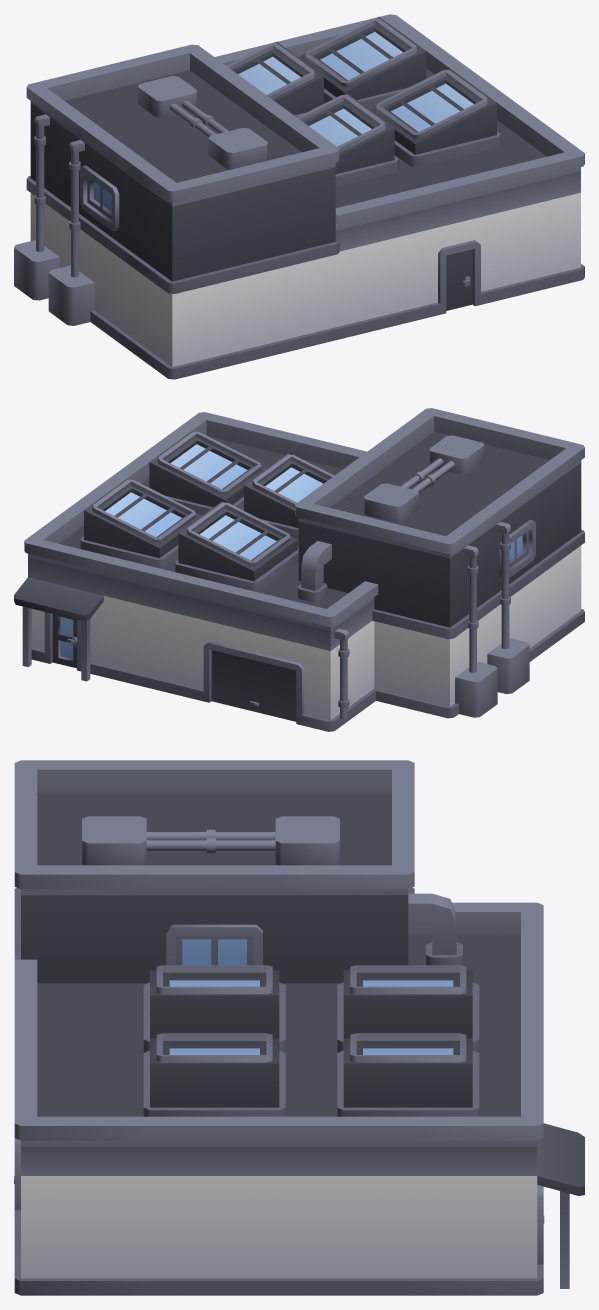
File: kenney-industrial_building-q.glb
3 views of the same model, one above another, from view 1: azimuth 30°, elevation 25°; view 2: azimuth 150°, elevation 25°; view 3: azimuth 270°, elevation 25° (orthographic). The views are drawn at different scales.
Visible parts, largest first — view 1: building-q; view 2: building-q; view 3: building-q.
Boxes of the visible parts, box(x1,y1,x2,y2) form: building-q: box(14, 14, 584, 379); building-q: box(14, 408, 584, 731); building-q: box(14, 760, 584, 1295).
Size of the model in its own units: 2.14 by 0.88 by 1.77.
Materials: 2 (2 with a texture image).
